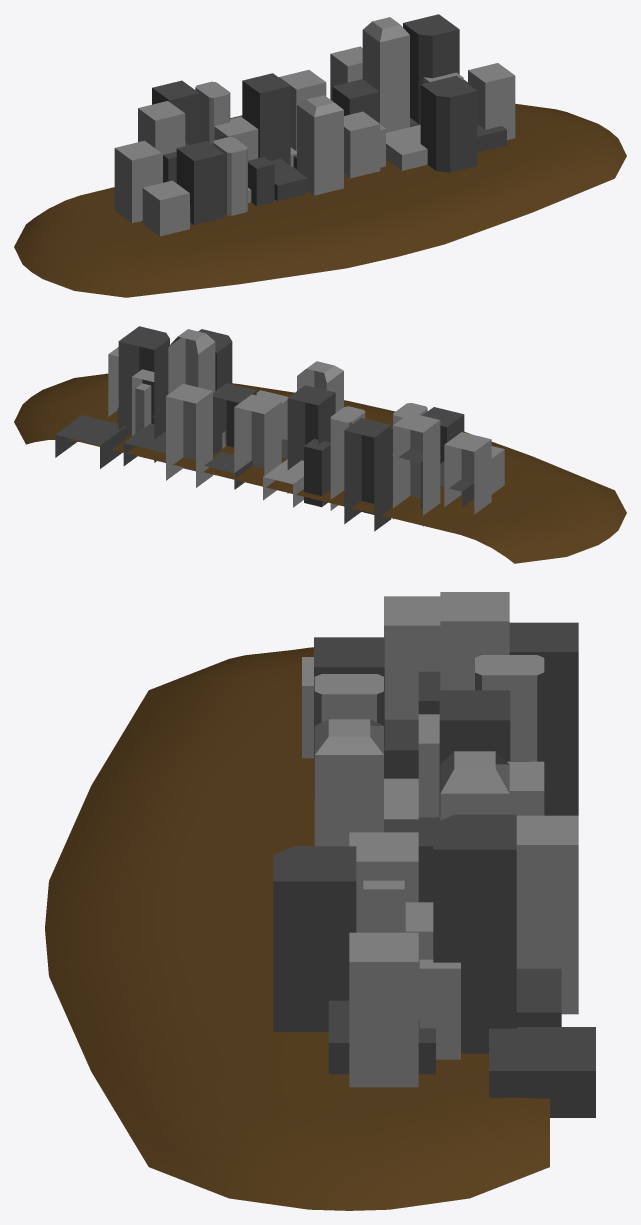
The model's file is distant_buildings.glb.
3 renders of one model, top to bottom at view 1: azimuth 30°, elevation 25°; view 2: azimuth 150°, elevation 25°; view 3: azimuth 270°, elevation 25°, orthographic. The views are drawn at different scales.
Parts seen in each view (by area): view 1: Ground, Building10, Building20, Building1, Building36, Building29, Building19, Building4, Building6, Building25, Building2, Building23 (+12 smaller); view 2: Ground, Building26, Building29, Building27, Building23, Building22, Building4, Building36, Building20, Building32, Building7, Building28 (+15 smaller); view 3: Ground, Building29, Building10, Building6, Building27, Building26, Building32, Building1, Building4, Building23, Building36, Building28 (+16 smaller).
Part boxes in pixels (box(x1,y1,x2,y2)): Ground: box(14, 103, 626, 297); Building10: box(420, 75, 477, 172); Building20: box(362, 17, 409, 132); Building1: box(297, 95, 343, 195); Building36: box(242, 73, 290, 165); Building29: box(403, 14, 459, 124); Building19: box(176, 141, 224, 224); Building4: box(114, 140, 161, 223); Building6: box(468, 63, 515, 140); Building25: box(142, 180, 189, 236); Building2: box(344, 111, 380, 178); Building23: box(138, 101, 185, 182); Ground: box(14, 373, 626, 563); Building26: box(344, 418, 391, 531); Building29: box(118, 326, 169, 462); Building27: box(166, 383, 212, 487); Building23: box(393, 413, 440, 526); Building22: box(234, 394, 281, 488); Building4: box(444, 432, 491, 514); Building36: box(287, 385, 335, 493); Building20: box(168, 329, 215, 394); Building32: box(55, 415, 126, 468); Building7: box(213, 383, 256, 455); Building28: box(330, 406, 365, 510); Ground: box(45, 647, 549, 1210); Building29: box(433, 814, 516, 1053); Building10: box(273, 846, 356, 1031); Building6: box(349, 932, 418, 1087); Building27: box(516, 815, 578, 1014); Building26: box(509, 622, 578, 815); Building32: box(489, 1027, 595, 1117); Building1: box(314, 719, 383, 846); Building4: box(384, 596, 440, 719); Building23: box(440, 592, 509, 690); Building36: box(439, 690, 510, 816); Building28: box(475, 655, 544, 761).
Size of the model in its own units: 386 by 84 by 159.
